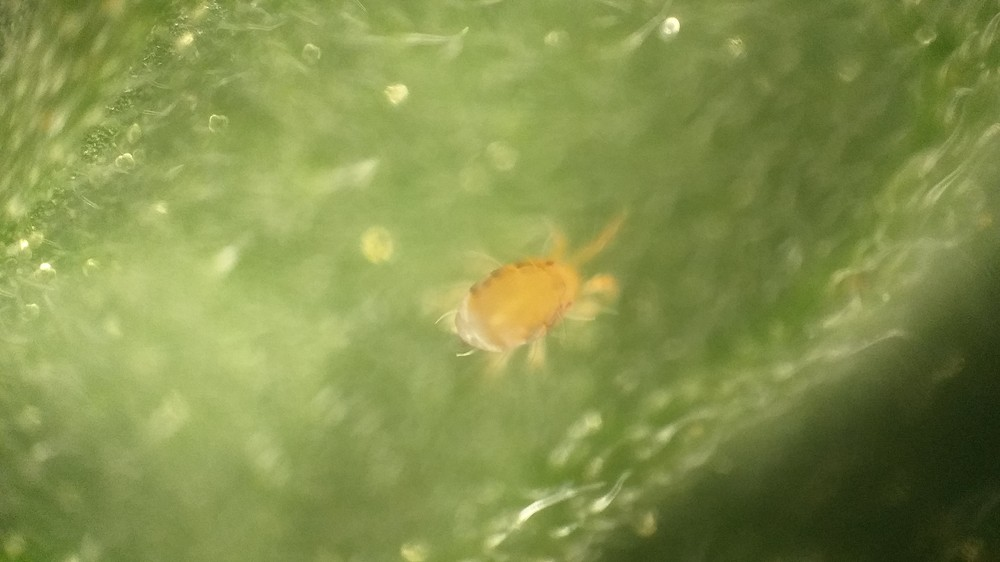Aracnido Rojo: (430, 205, 649, 368)
